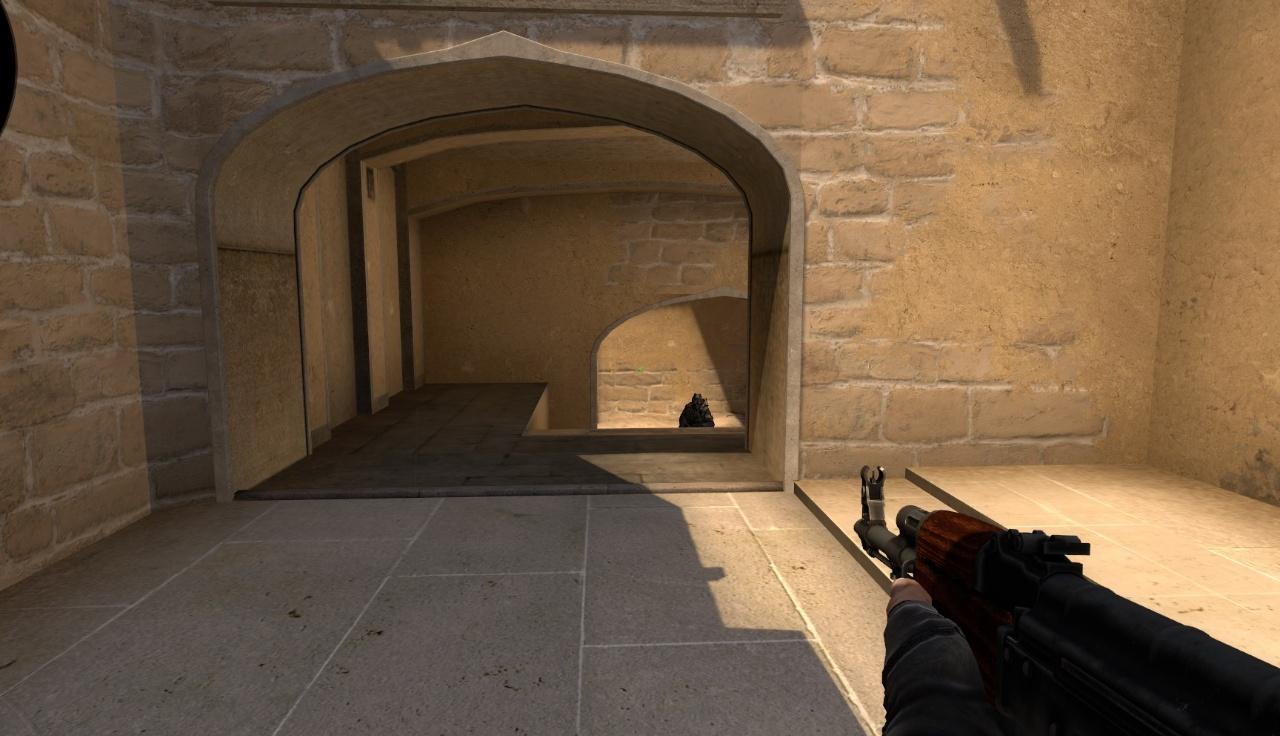ct: (679, 393, 714, 427)
cthead: (691, 393, 703, 408)
rifle: (853, 465, 1280, 736)
